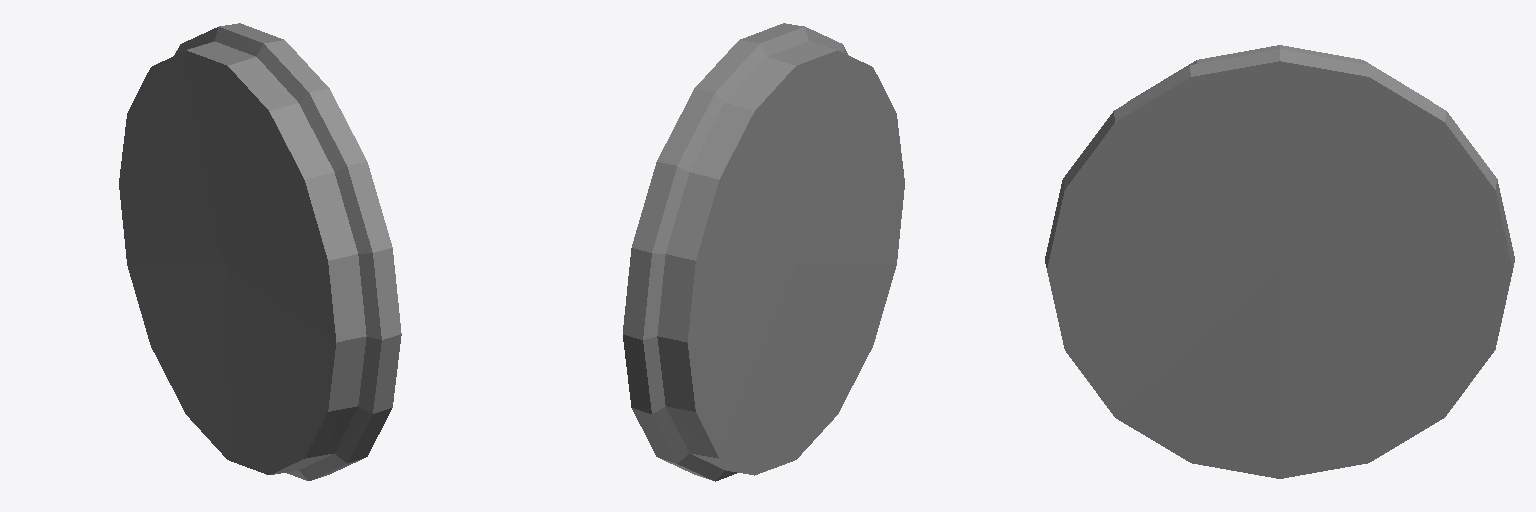
The model's file is RuedaDer6.obj.
3 renders of one model, left to right at view 1: azimuth 30°, elevation 25°; view 2: azimuth 150°, elevation 25°; view 3: azimuth 270°, elevation 25°, orthographic.
Parts seen in each view (by area): view 1: RuedaDer6; view 2: RuedaDer6; view 3: RuedaDer6.
Boxes of the visible parts, x1,y1,x2,y2 form: RuedaDer6: [119, 23, 401, 480]; RuedaDer6: [623, 23, 904, 481]; RuedaDer6: [1045, 45, 1514, 478].
Bounding box in the file's own units: 0.041 × 0.2641 × 0.2674.